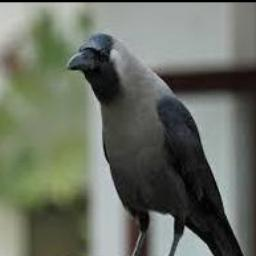Crow: (66, 32, 253, 256)
